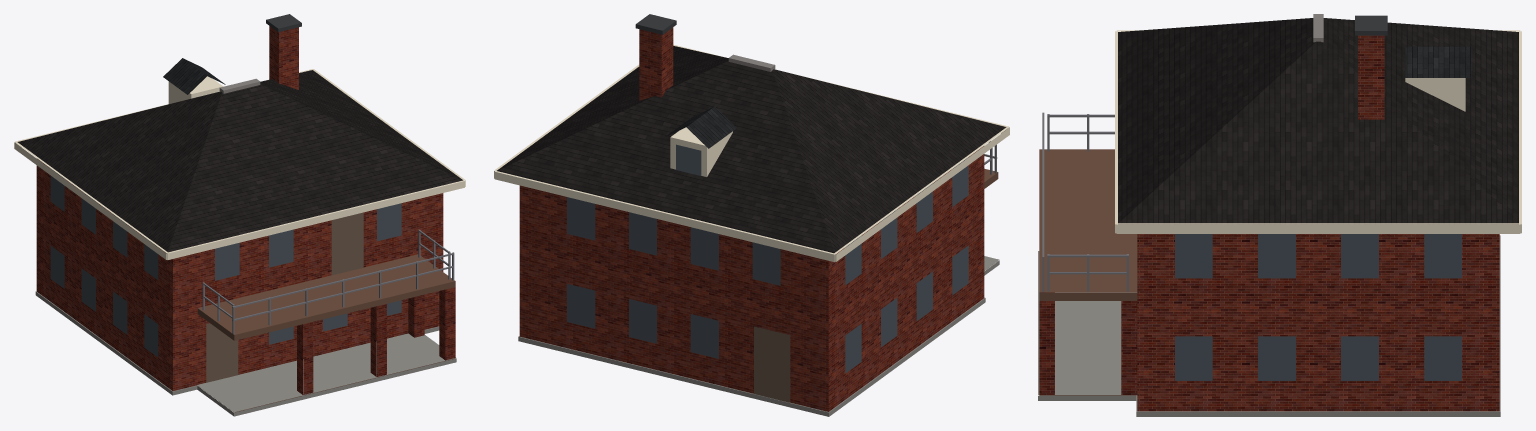
The model's file is mh-foreman-house.zfix-v22.lod1.glb.
3 renders of one model, left to right at view 1: azimuth 30°, elevation 25°; view 2: azimuth 150°, elevation 25°; view 3: azimuth 270°, elevation 25°, orthographic. The views are drawn at different scales.
Visible parts, largest first — view 1: mh-foreman-house; view 2: mh-foreman-house; view 3: mh-foreman-house.
Boxes of the visible parts, x1=… form: mh-foreman-house: x1=14, y1=14, x2=465, y2=416; mh-foreman-house: x1=494, y1=14, x2=1009, y2=416; mh-foreman-house: x1=1038, y1=14, x2=1521, y2=416.
Bounding box in the file's own units: 12.18 × 10.16 × 12.82.
Materials: 3 (2 with a texture image).
